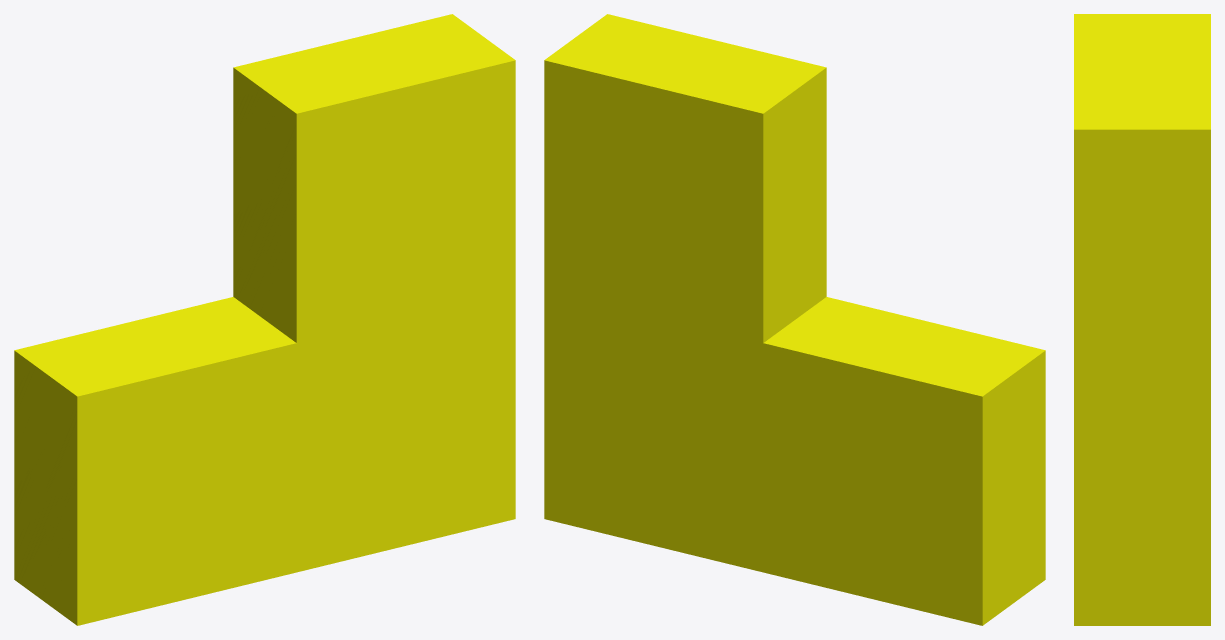
The model's file is kaykit-primitive-wall-opencorner.glb.
The picture shows the model from 3 angles, left to right: view 1: azimuth 30°, elevation 25°; view 2: azimuth 150°, elevation 25°; view 3: azimuth 270°, elevation 25°; orthographic projection. The views are drawn at different scales.
Parts seen in each view (by area): view 1: Primitive_Wall_OpenCorner; view 2: Primitive_Wall_OpenCorner; view 3: Primitive_Wall_OpenCorner.
Boxes of the visible parts, <box> form: Primitive_Wall_OpenCorner: <box>14,14,515,625</box>; Primitive_Wall_OpenCorner: <box>544,14,1045,625</box>; Primitive_Wall_OpenCorner: <box>1074,14,1210,625</box>.
Size of the model in its own units: 4 by 4 by 1.
